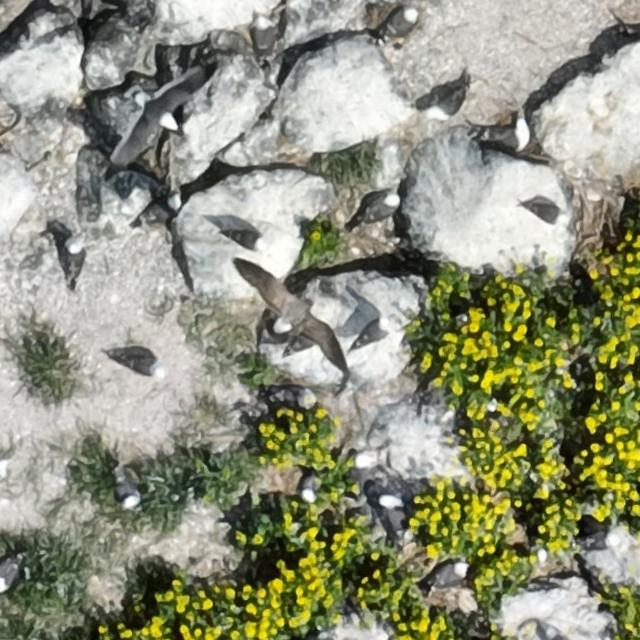F: (241, 265, 354, 374), (126, 76, 192, 150)
umineko: (473, 118, 538, 152), (424, 83, 468, 125), (580, 520, 619, 554), (383, 495, 408, 535), (430, 562, 466, 588), (118, 354, 158, 375), (387, 8, 417, 36), (117, 474, 139, 508), (226, 228, 262, 248), (358, 320, 388, 344), (528, 203, 562, 223), (0, 559, 20, 592), (370, 194, 397, 216), (66, 242, 82, 276), (255, 17, 270, 50), (300, 473, 317, 501), (166, 192, 181, 214)
